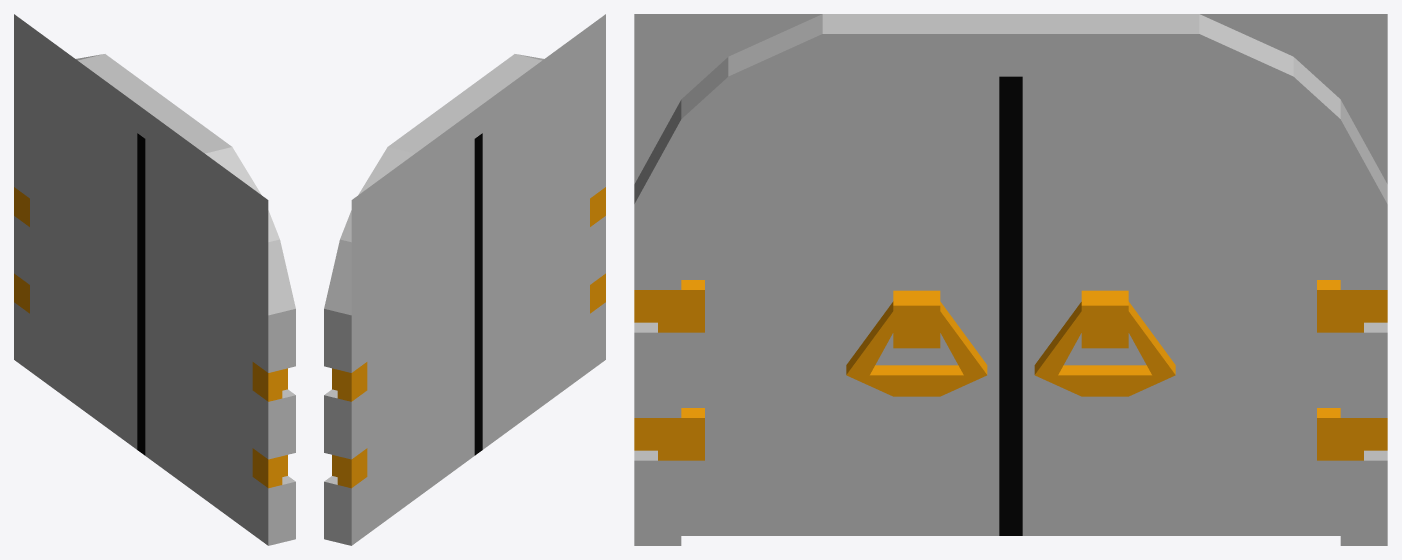
File: doubledoorsclosed.obj
3 views of the same model, side by side, from view 1: azimuth 30°, elevation 25°; view 2: azimuth 150°, elevation 25°; view 3: azimuth 270°, elevation 25° (orthographic). The views are drawn at different scales.
Visible parts, largest first — view 1: doubledoorsclosed_back; view 2: doubledoorsclosed_back; view 3: doubledoorsclosed_back.
Part boxes in pixels (bbox=[...]): doubledoorsclosed_back: bbox=[14, 14, 295, 545]; doubledoorsclosed_back: bbox=[324, 14, 605, 545]; doubledoorsclosed_back: bbox=[634, 14, 1387, 545].
Bounding box in the file's own units: 0.2 × 1.92 × 2.56.
